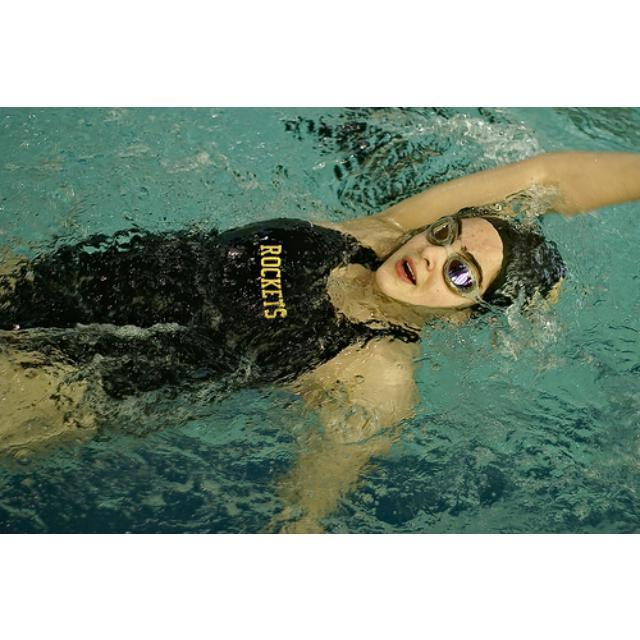human: (1, 145, 639, 527)
